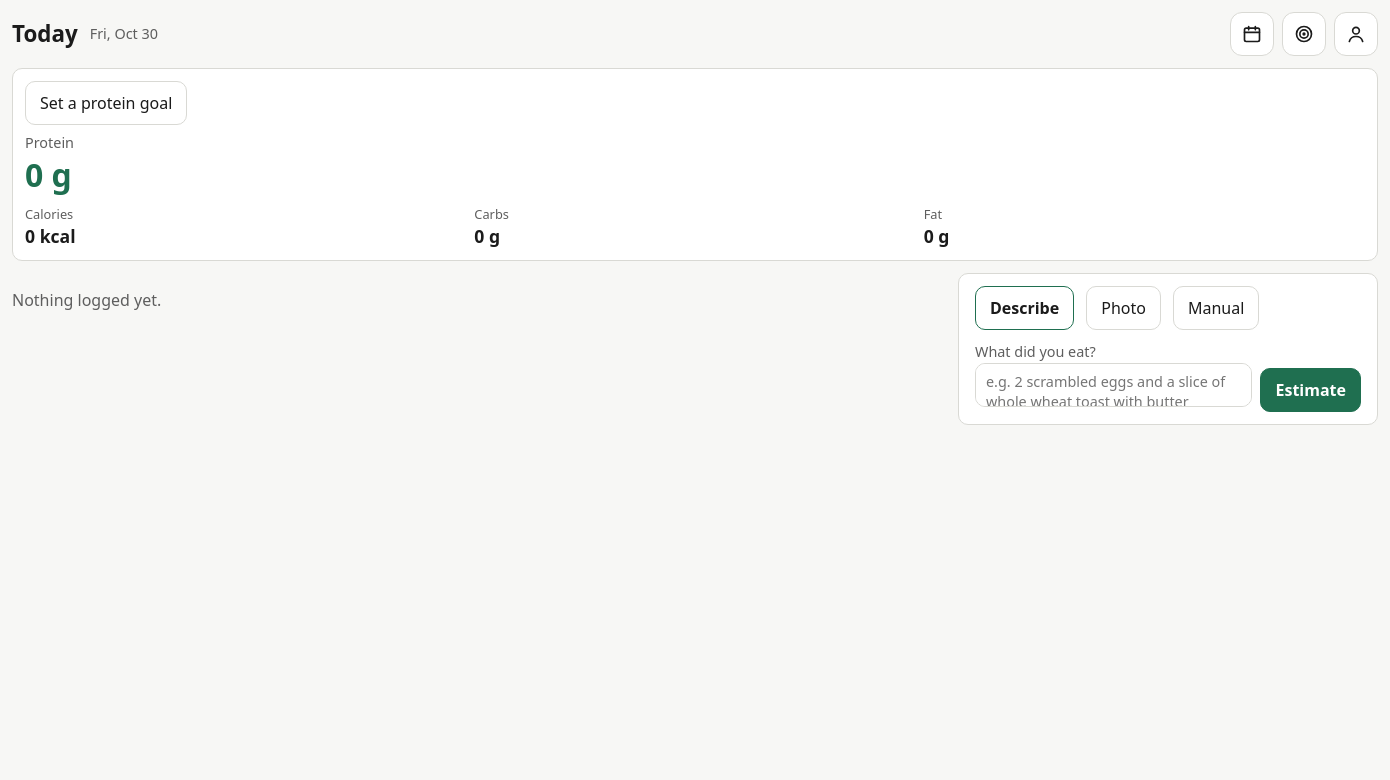
Scenario: Composer photo: sources (feature 002) › falls back to the camera app if detection fails
Click the button "Photo" at coordinates (1124, 308), box x1=1086 y1=286 x2=1161 y2=330
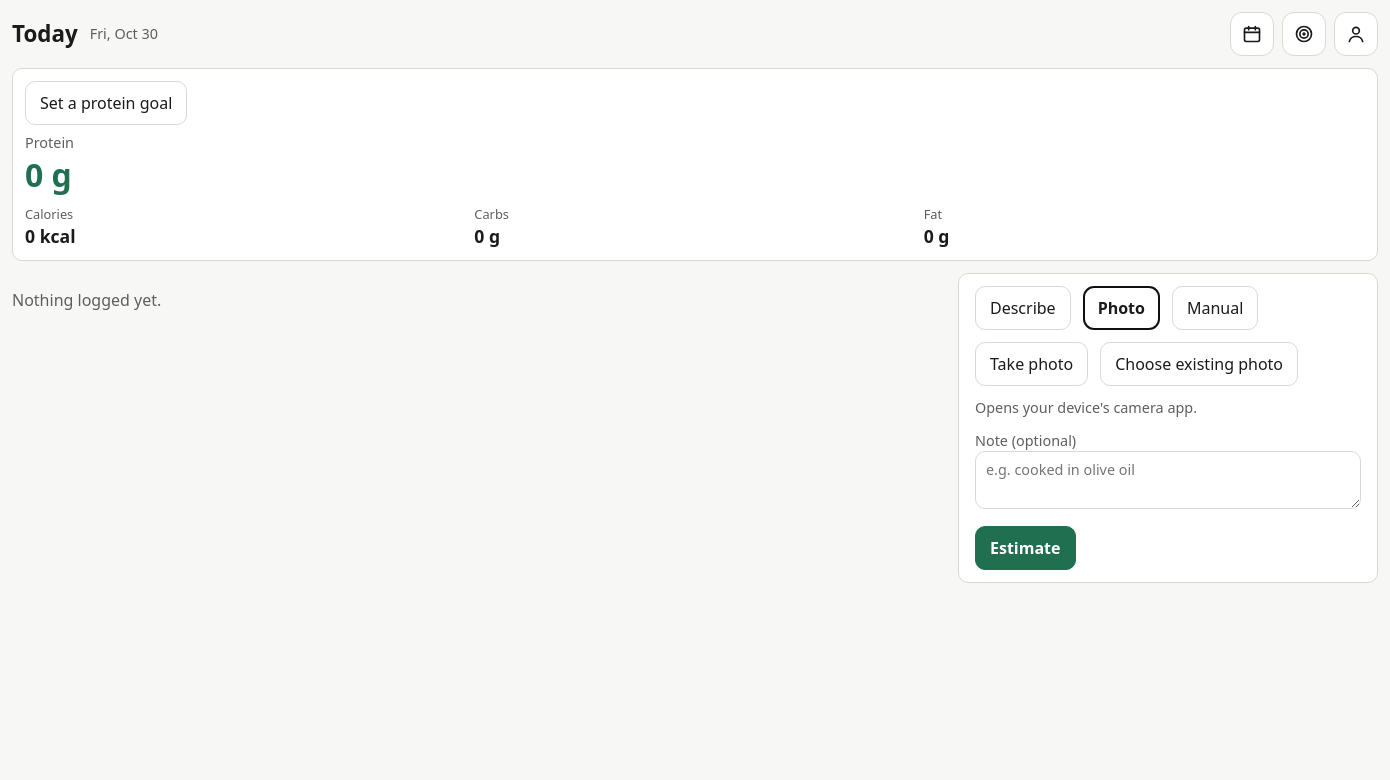
Check: the text "Opens your device's camera app." is shown, box x1=975 y1=398 x2=1197 y2=418
